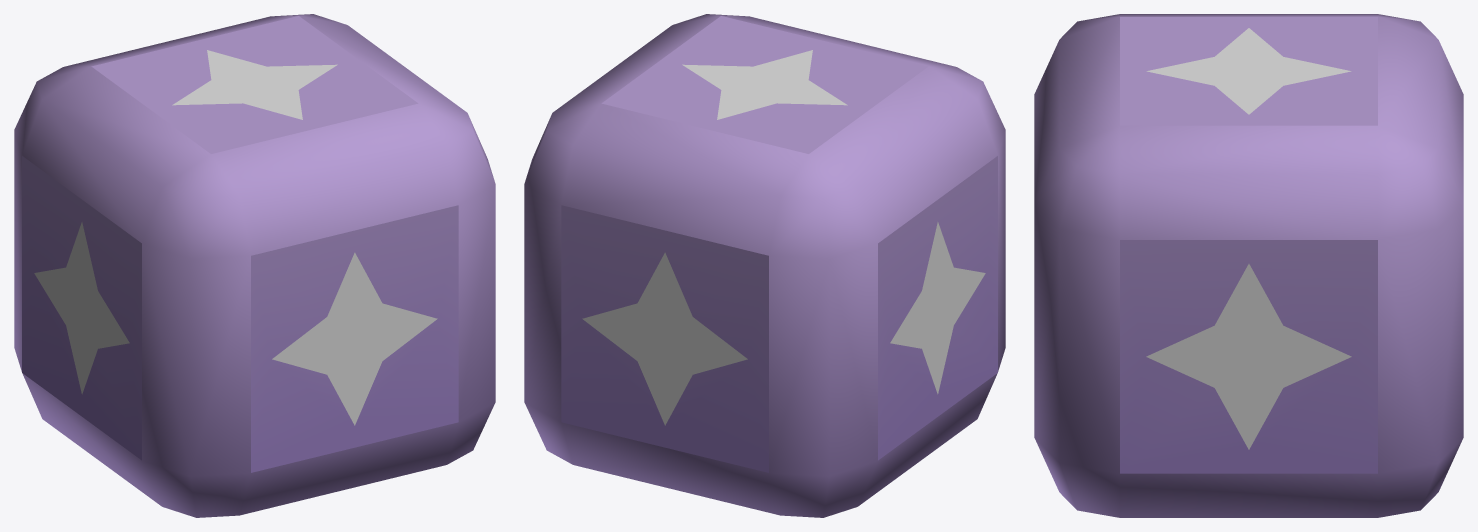
Rendered from toy_block.glb.
The picture shows the model from 3 angles, left to right: view 1: azimuth 30°, elevation 25°; view 2: azimuth 150°, elevation 25°; view 3: azimuth 270°, elevation 25°; orthographic projection. The views are drawn at different scales.
Visible parts, largest first — view 1: toy_block; view 2: toy_block; view 3: toy_block.
Part boxes in pixels (x1,y1,x2,y2): toy_block: (14,14,495,517); toy_block: (524,14,1005,517); toy_block: (1034,14,1463,517).
Bounding box in the file's own units: 9 × 9 × 9.
